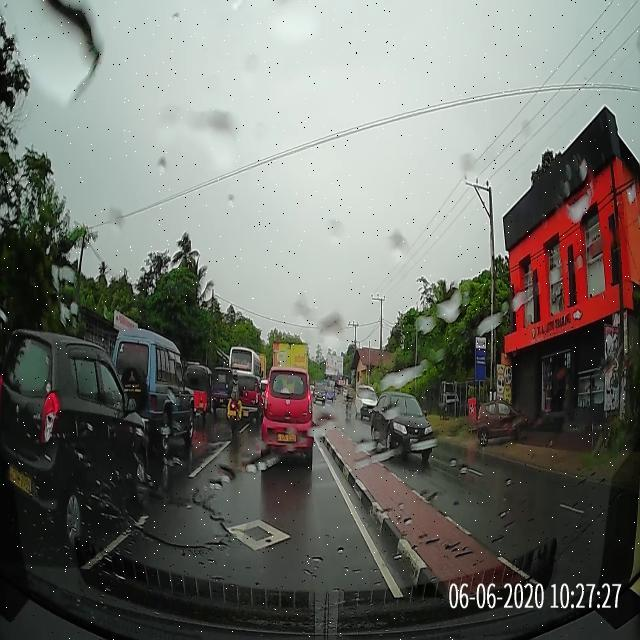diamond: (93, 481, 405, 573)
